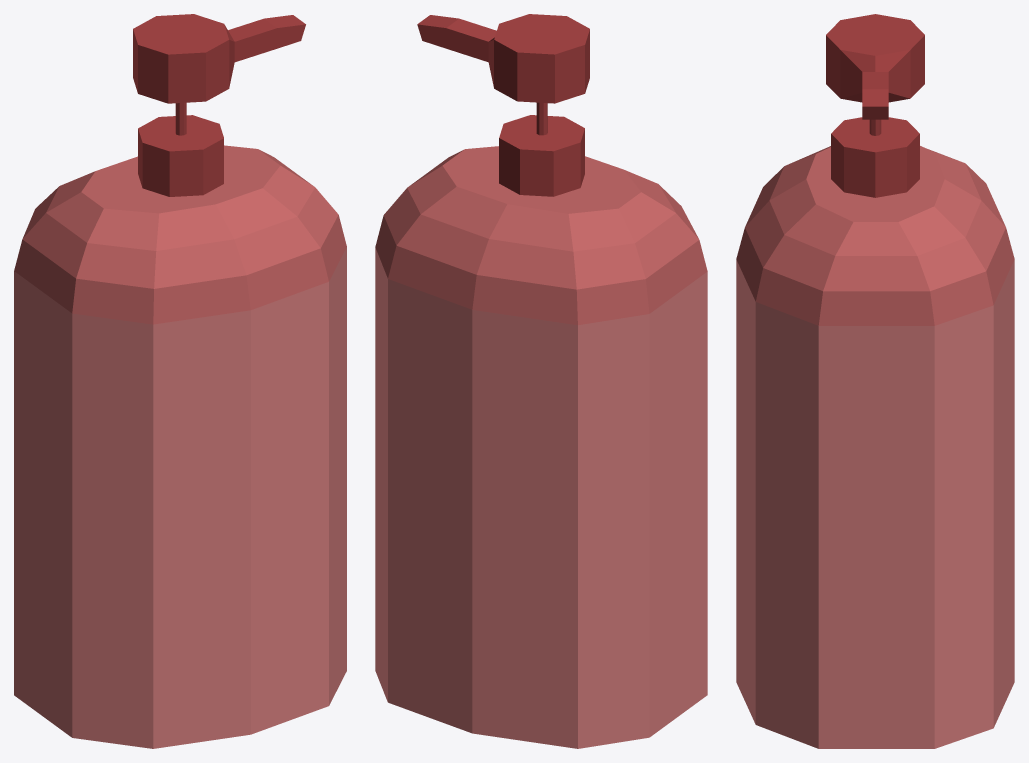
File: Prop_Beauty_07.fbx
3 views of the same model, side by side, from view 1: azimuth 30°, elevation 25°; view 2: azimuth 150°, elevation 25°; view 3: azimuth 270°, elevation 25° (orthographic).
Parts seen in each view (by area): view 1: Prop_Beauty_07; view 2: Prop_Beauty_07; view 3: Prop_Beauty_07.
Part boxes in pixels (x1,y1,x2,y2): Prop_Beauty_07: [14, 14, 346, 748]; Prop_Beauty_07: [375, 14, 707, 748]; Prop_Beauty_07: [736, 14, 1014, 748].
Bounding box in the file's own units: 11.52 × 26.01 × 10.14.
